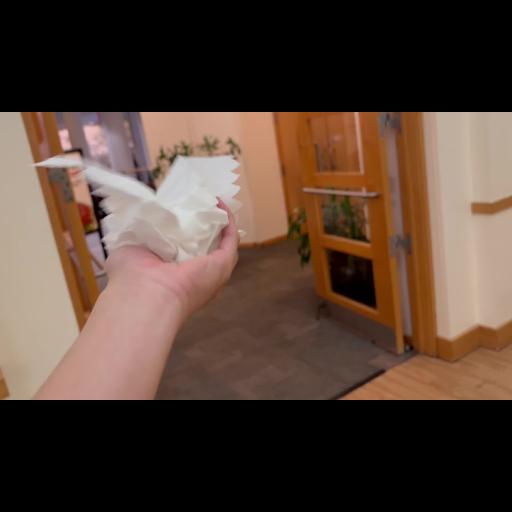napkin: (26, 141, 260, 279)
